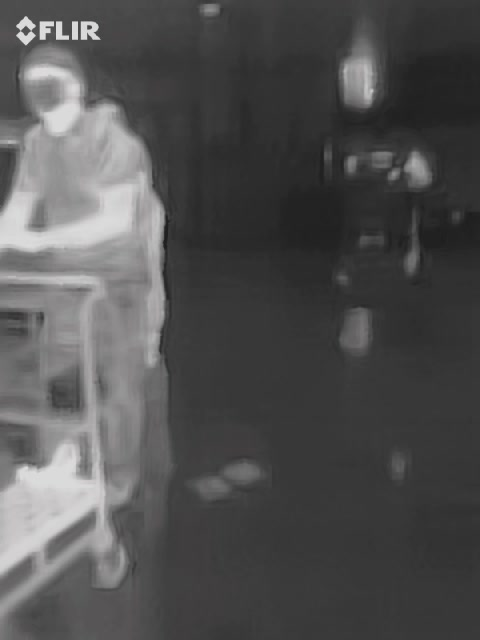head: (20, 49, 83, 118)
